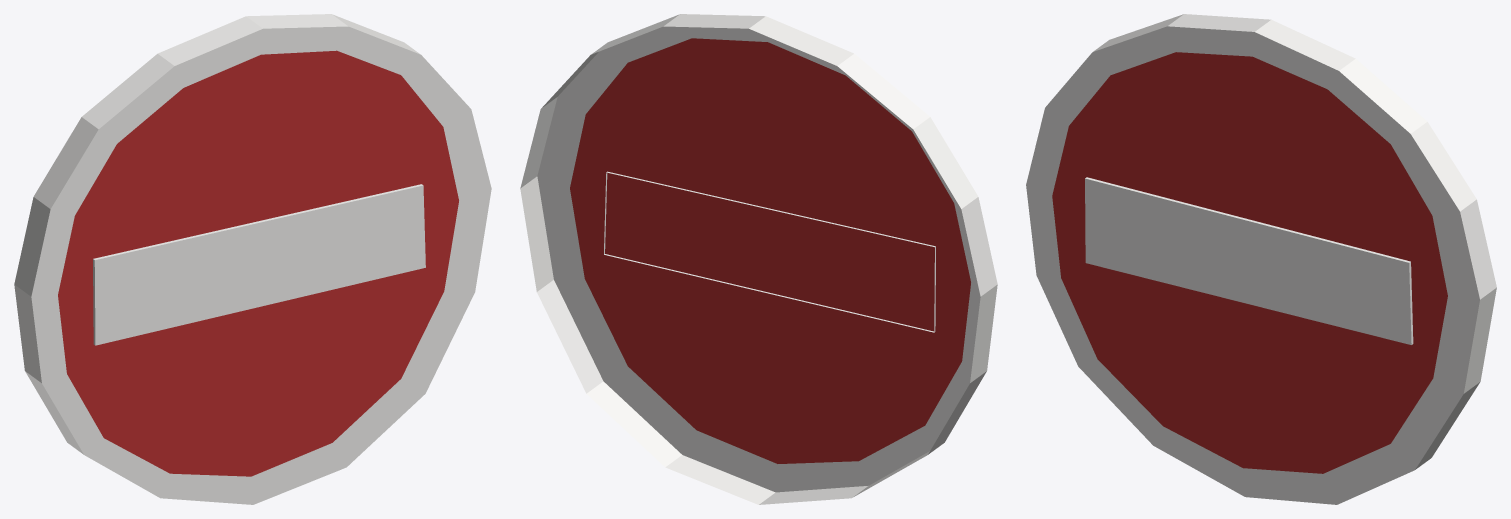
File: Sign_2.fbx
3 views of the same model, side by side, from view 1: azimuth 30°, elevation 25°; view 2: azimuth 150°, elevation 25°; view 3: azimuth 330°, elevation 25° (orthographic).
Parts seen in each view (by area): view 1: Sign_2; view 2: Sign_2; view 3: Sign_2.
Boxes of the visible parts, <box> form: Sign_2: <box>14,14,491,504</box>; Sign_2: <box>520,14,997,504</box>; Sign_2: <box>1026,14,1496,504</box>.
Bounding box in the file's own units: 96.08 × 6.84 × 94.51.
